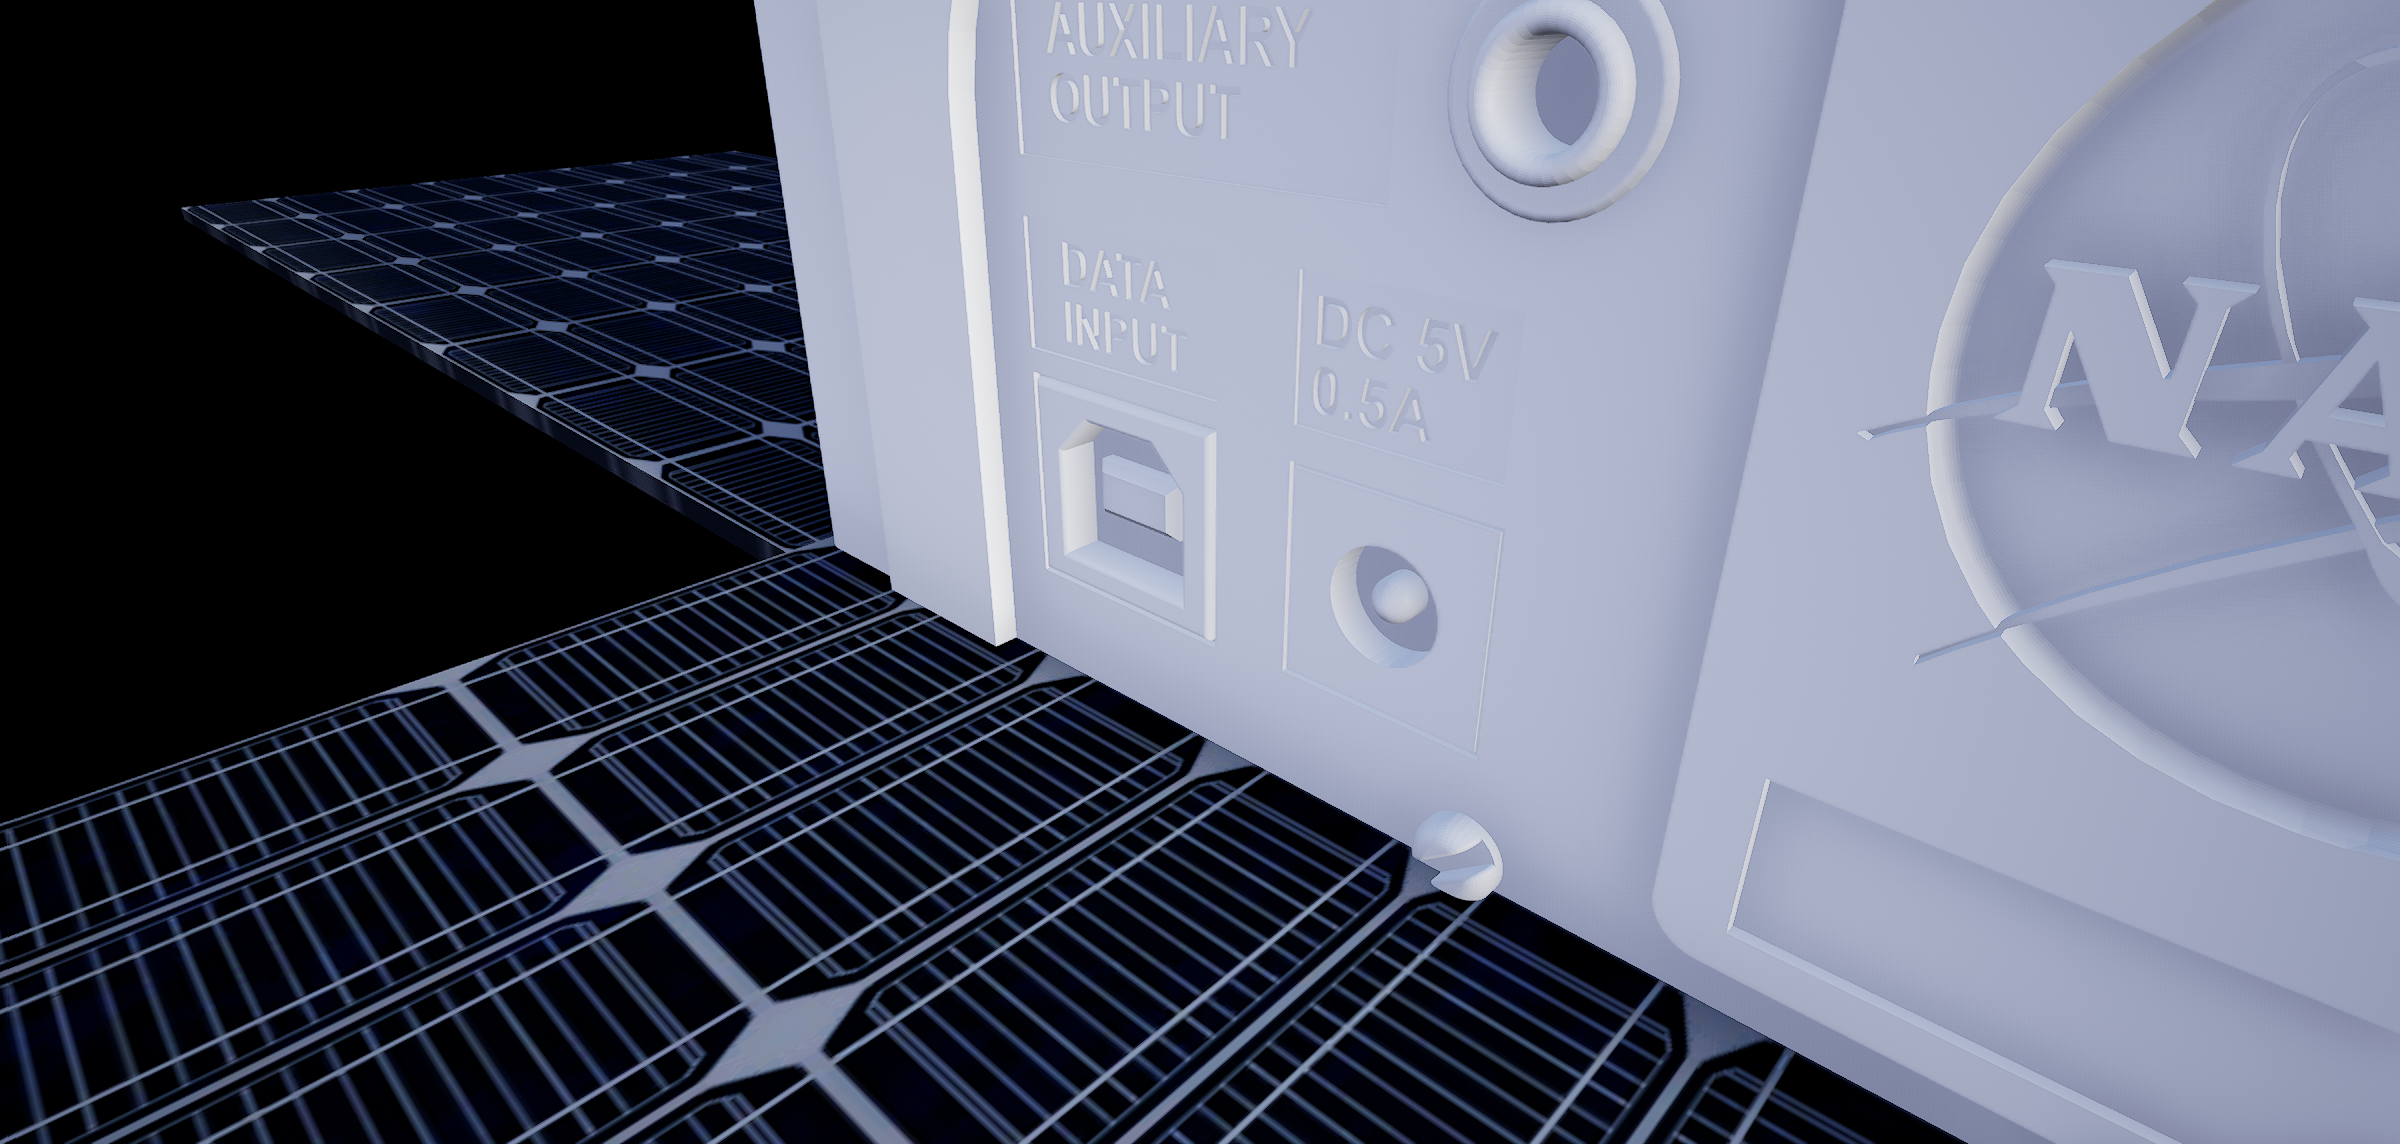aux: (1397, 2, 1730, 217)
dc: (1309, 524, 1457, 694)
usb: (1047, 412, 1198, 620)
